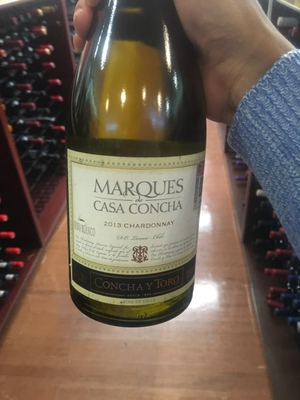marques de casa concha chardonnay: (56, 23, 223, 323)
